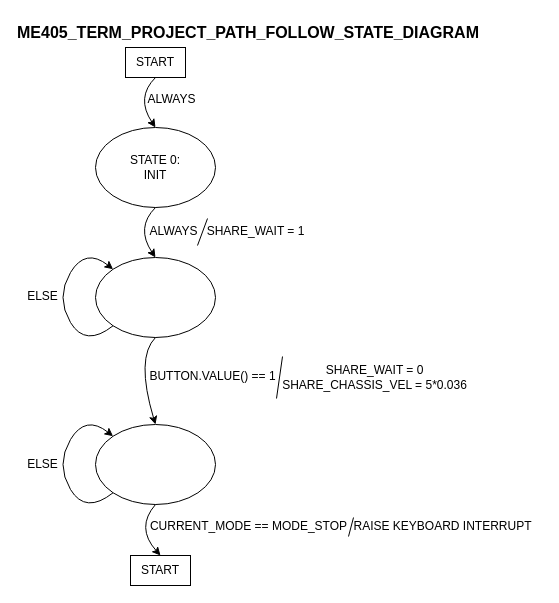
Some shapes in this 559 by 603 pixel diagram are drawn without their labels. The shapes that lost their labels are listed below. From the top down, each one's centre as x and y in pixels, then its label:
At point (155, 297): "STATE 1: CALIBRATE".
At point (155, 464): "STATE 2: RUN".
